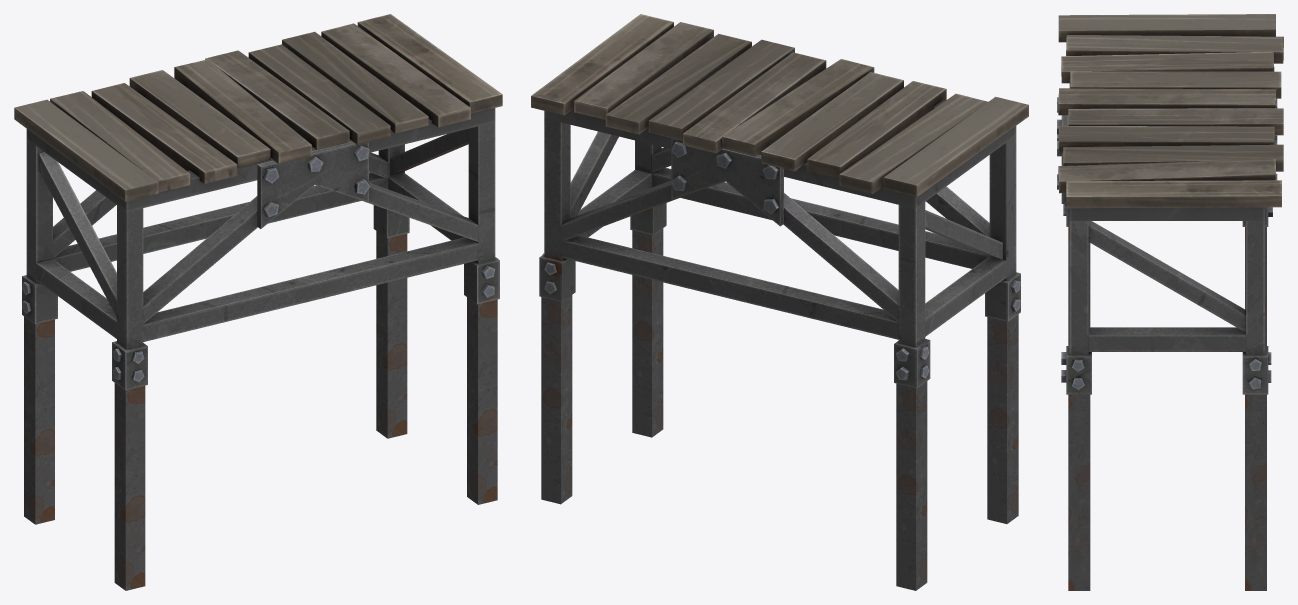
The model's file is WoodPlatform1x2.glb.
The picture shows the model from 3 angles, left to right: view 1: azimuth 30°, elevation 25°; view 2: azimuth 150°, elevation 25°; view 3: azimuth 270°, elevation 25°; orthographic projection. The views are drawn at different scales.
Visible parts, largest first — view 1: WoodPlatform1x2, 1x2Scaffold, ScaleSupportBeam_Metal (2) (×4); view 2: WoodPlatform1x2, 1x2Scaffold, ScaleSupportBeam_Metal (2) (×4); view 3: WoodPlatform1x2, 1x2Scaffold, ScaleSupportBeam_Metal (2) (×4).
Boxes of the visible parts, left/top/right/bottom form: WoodPlatform1x2: left=14, top=14, right=502, bottom=211; 1x2Scaffold: left=22, top=122, right=499, bottom=390; ScaleSupportBeam_Metal (2) (×4): left=24, top=231, right=497, bottom=590; WoodPlatform1x2: left=531, top=14, right=1028, bottom=208; 1x2Scaffold: left=539, top=118, right=1020, bottom=388; ScaleSupportBeam_Metal (2) (×4): left=541, top=228, right=1018, bottom=590; WoodPlatform1x2: left=1058, top=14, right=1283, bottom=220; 1x2Scaffold: left=1057, top=97, right=1277, bottom=394; ScaleSupportBeam_Metal (2) (×4): left=1068, top=227, right=1266, bottom=590.
Bounding box in the file's own units: 1.98 × 2.02 × 1.04.
3 materials, 3 textured.
